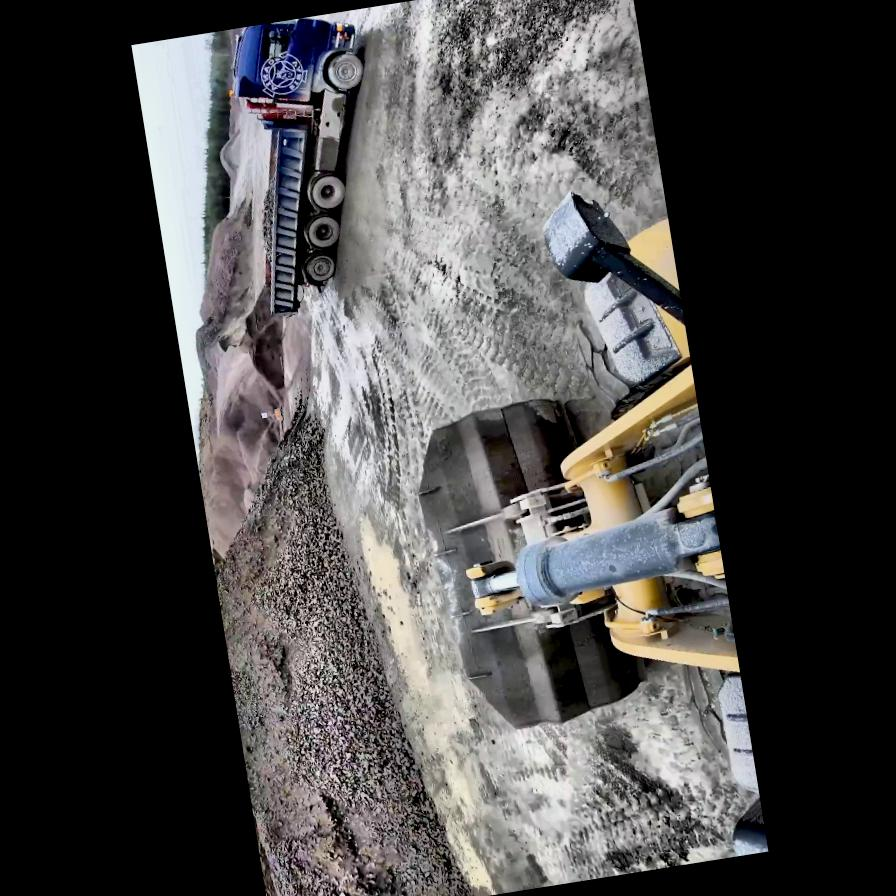anchor: (463, 556, 523, 617)
pile of gravel: (195, 423, 500, 896), (156, 191, 331, 512), (178, 196, 274, 345)
